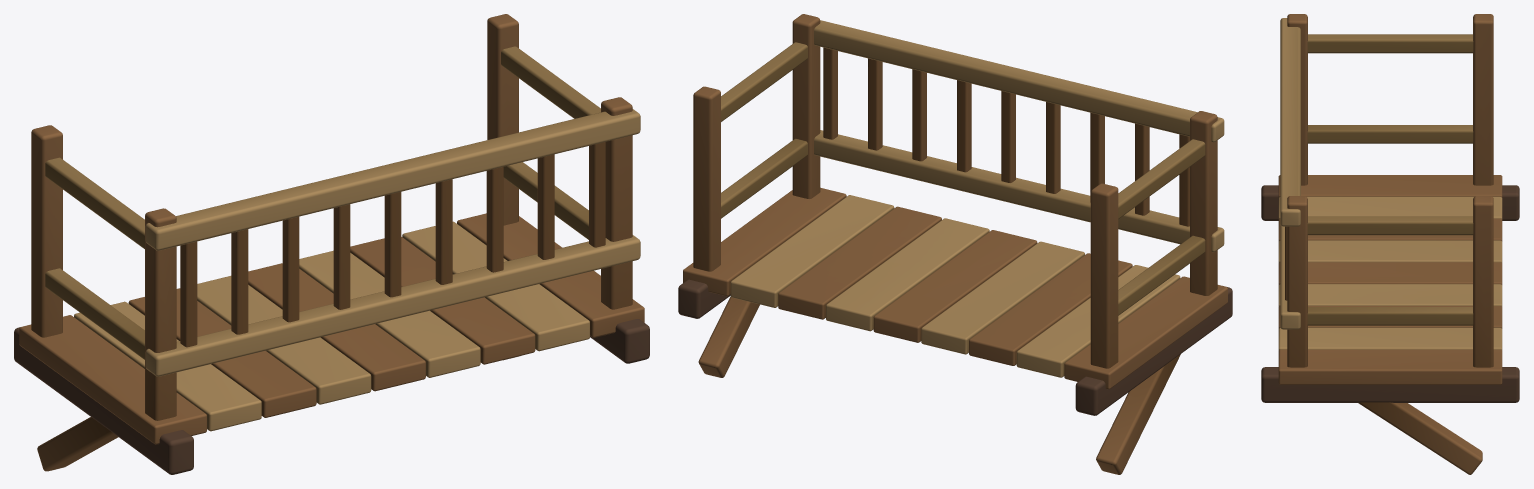
File: fw_balcony_timber.glb
3 renders of one model, left to right at view 1: azimuth 30°, elevation 25°; view 2: azimuth 150°, elevation 25°; view 3: azimuth 270°, elevation 25°, orthographic. The views are drawn at different scales.
Parts seen in each view (by area): view 1: body; view 2: body; view 3: body.
Boxes of the visible parts, <box> form: body: <box>14,14,649,474</box>; body: <box>678,14,1232,474</box>; body: <box>1261,14,1519,474</box>.
Size of the model in its own units: 2.69 by 1.74 by 1.5.
